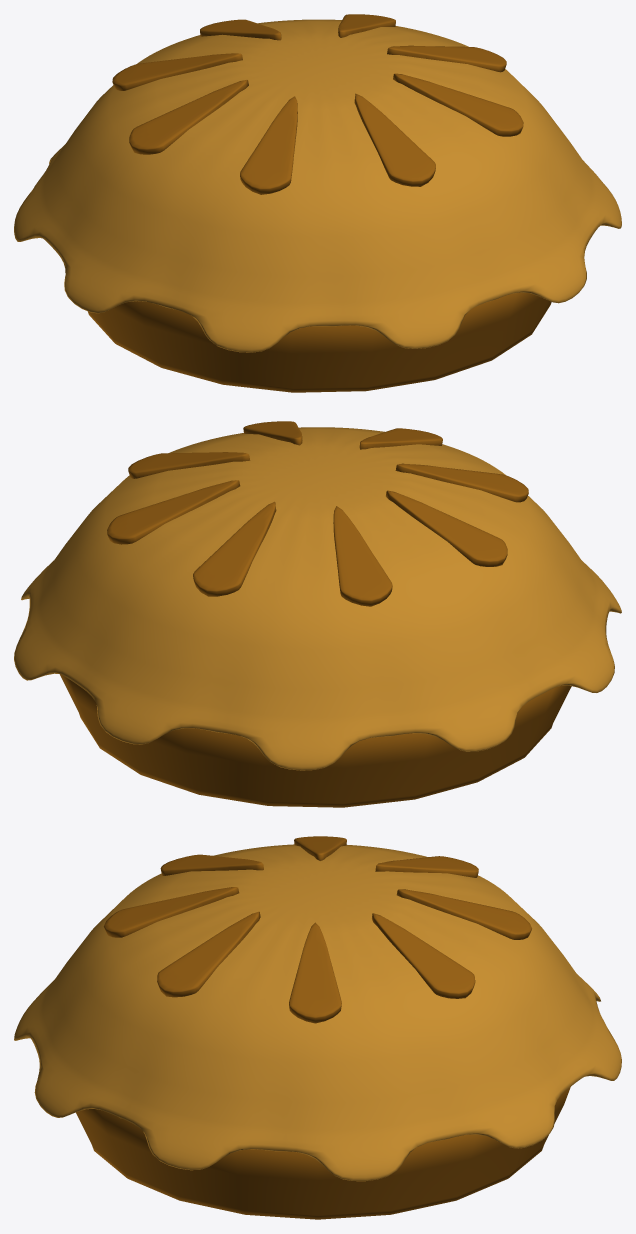
File: Pie02.fbx
The picture shows the model from 3 angles, top to bottom: view 1: azimuth 30°, elevation 25°; view 2: azimuth 150°, elevation 25°; view 3: azimuth 270°, elevation 25°; orthographic projection.
Visible parts, largest first — view 1: Pie02; view 2: Pie02; view 3: Pie02.
Boxes of the visible parts, x1,y1,x2,y2 form: Pie02: [14, 14, 621, 392]; Pie02: [14, 421, 621, 807]; Pie02: [14, 836, 621, 1219].
Size of the model in its own units: 187 by 78.79 by 187.
